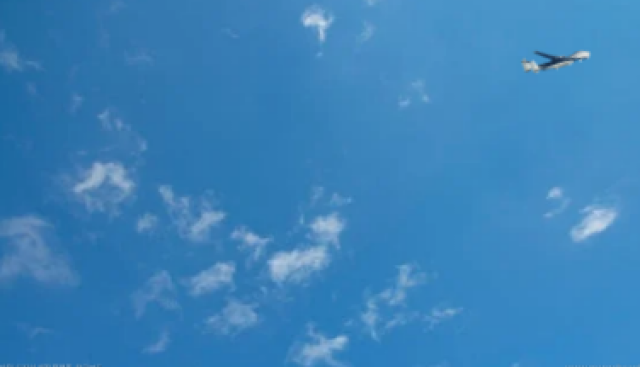military drone: (520, 49, 590, 74)
